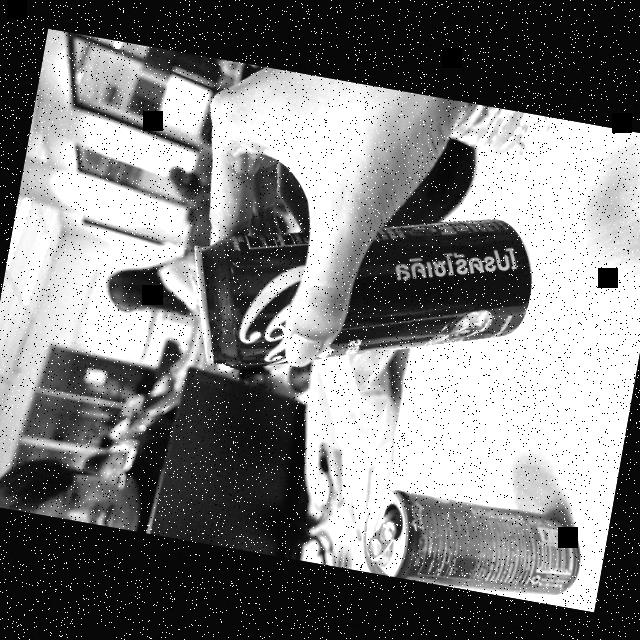can: (182, 160, 550, 427), (336, 478, 590, 608)
